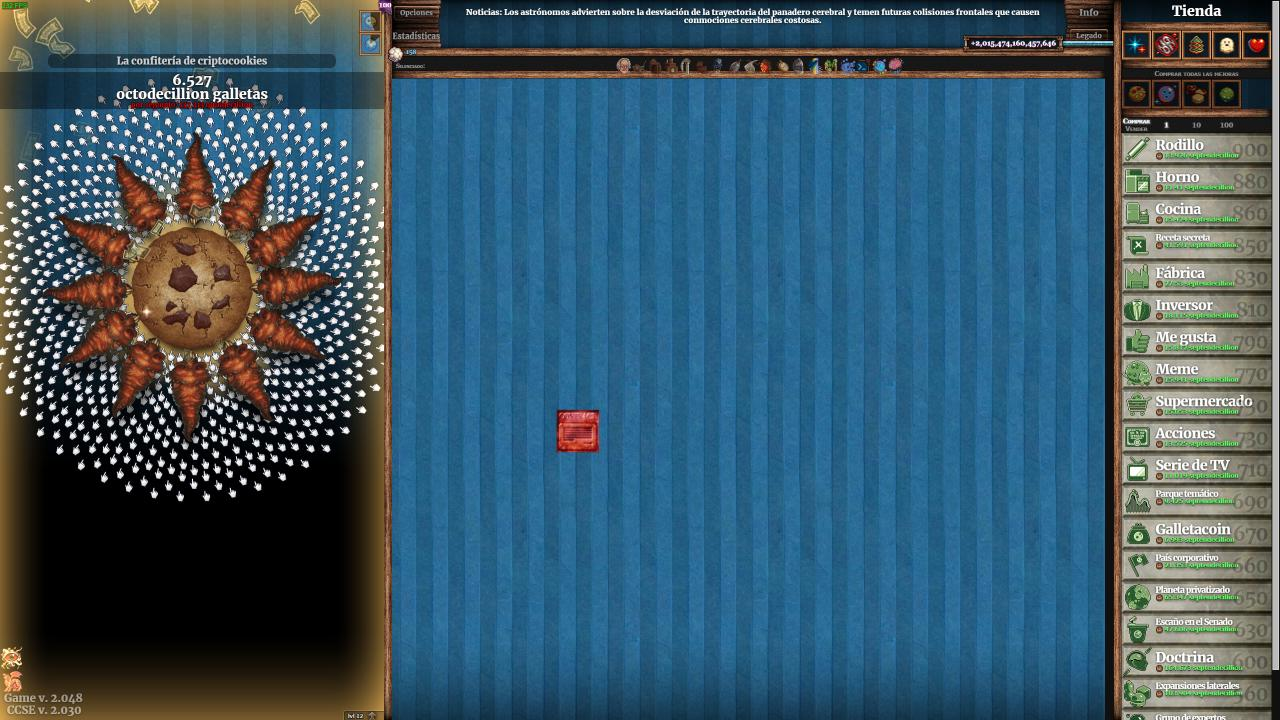RedCartridge: (556, 409, 600, 454)
